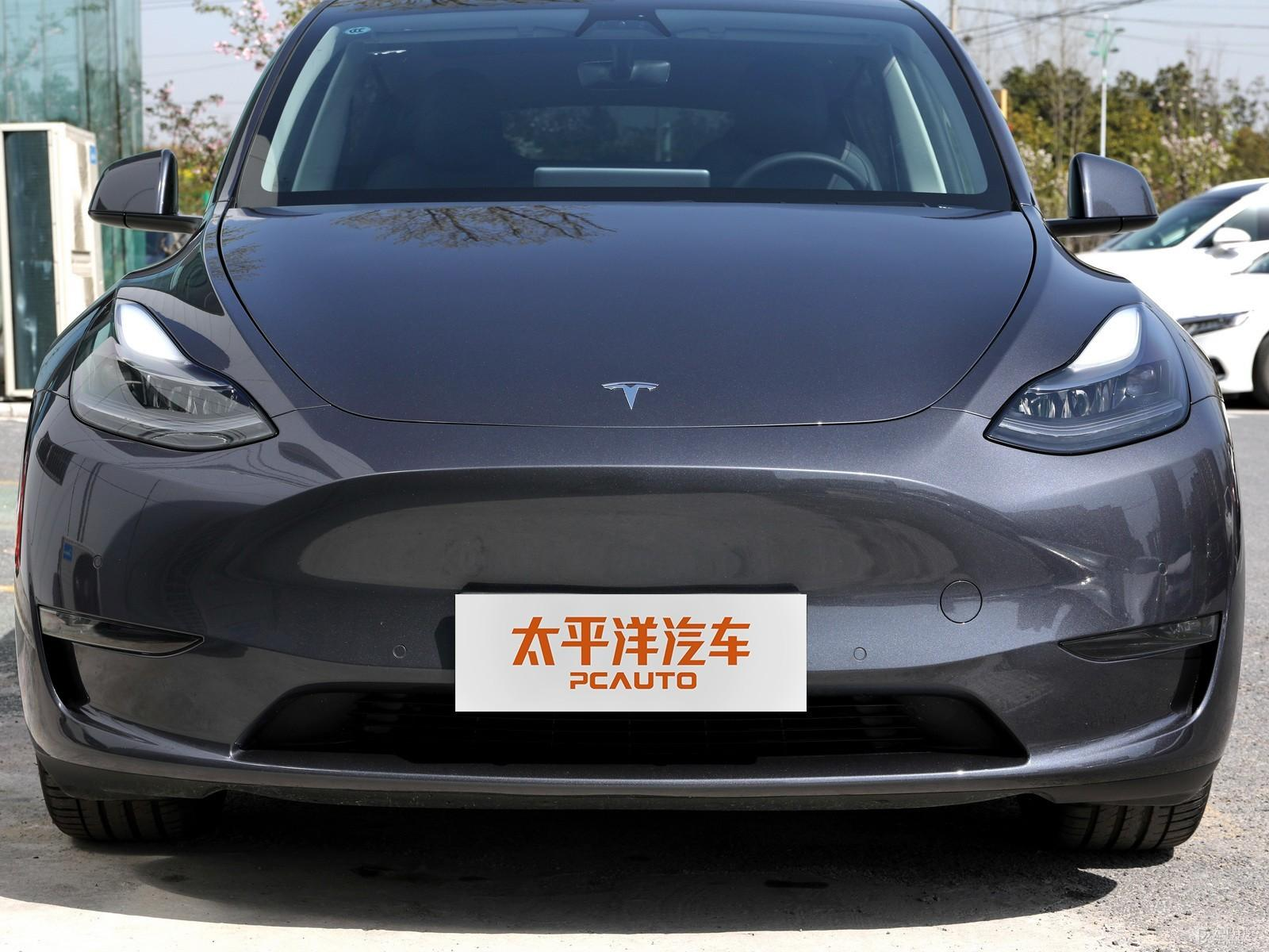Tesla: (602, 381, 659, 410)
